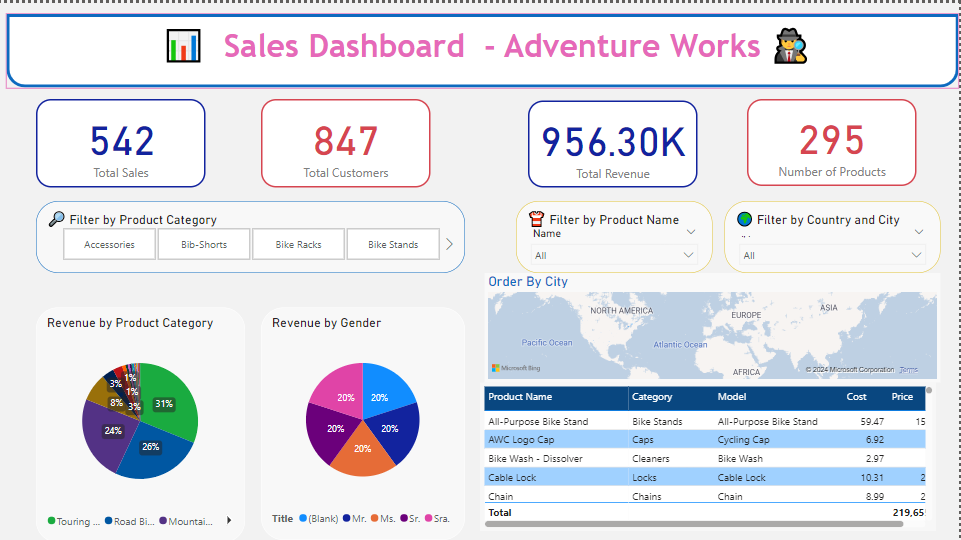

The page's visual inventory and layout, read from the dashboard file:
{"tool":"powerbi","page":{"name":"Page 1","canvas":[1280,720],"ordinal":0},"visuals":[{"type":"card","fields":{"Values":["CountNonNull(SalesOrderDetail.Sales_Order_ID)"]},"box":[48,128,226,118],"z":0},{"type":"card","fields":{"Values":["CountNonNull(Customer.Customer_ID)"]},"box":[348,128,226,118],"z":1000},{"type":"card","fields":{"Values":["Sum(SalesOrderHeader.Total_Due)"]},"box":[704,130,226,116],"z":2000},{"type":"card","fields":{"Values":["CountNonNull(Product.Product_ID)"]},"box":[996,128,226,116],"z":3000},{"type":"slicer","title":"🔎 Filter by Product Category","fields":{"Values":["ProductCategory.Name"]},"box":[48,264,572,96],"z":4000},{"type":"shape","box":[8.3,13.3,1271.7,100],"z":5000},{"type":"textbox","box":[212,20,982,86],"z":6000},{"type":"slicer","title":"👕 Filter by Product Name","fields":{"Values":["ProductCategory.Name"]},"box":[688,264,262,96],"z":7000},{"type":"slicer","title":"🌍 Filter by Country and City","fields":{"Values":["address.Country_Region","address.City"]},"box":[966,264,288,96],"z":8000},{"type":"pieChart","title":"Revenue by Product Category","fields":{"Category":["ProductCategory.Name"],"Y":["Sum(SalesOrderDetail.Line_Total)"]},"box":[48.3,406.7,278.3,313.3],"z":9000},{"type":"pieChart","title":"Revenue by Gender","fields":{"Category":["Customer.Title"],"Y":["Sum(SalesOrderDetail.Line_Total)"]},"box":[348,406,272,310],"z":10000},{"type":"filledMap","fields":{"Category":["address.City"]},"box":[646,360,608,146],"z":11000},{"type":"tableEx","fields":{"Values":["Product.Name","ProductCategory.Name","ProductModel.Name","Product.Standard_Cost","Sum(Product.List_Price)"]},"box":[640,506,608,198],"z":12000},{"type":"actionButton","box":[0,0,100,40],"z":13000}]}

Visuals, with their boxes in screenshot pixels (x1, y1, x2, y2), scaled from the page's 1280x720 canvas onto the 961x540 screenshot:
card - CountNonNull(SalesOrderDetail.Sales_Order_ID): bbox=(36, 96, 206, 184)
card - CountNonNull(Customer.Customer_ID): bbox=(261, 96, 431, 184)
card - Sum(SalesOrderHeader.Total_Due): bbox=(529, 98, 698, 184)
card - CountNonNull(Product.Product_ID): bbox=(748, 96, 917, 183)
"🔎 Filter by Product Category" slicer: bbox=(36, 198, 465, 270)
shape: bbox=(6, 10, 960, 85)
textbox: bbox=(159, 15, 896, 80)
"👕 Filter by Product Name" slicer: bbox=(517, 198, 713, 270)
"🌍 Filter by Country and City" slicer: bbox=(725, 198, 941, 270)
"Revenue by Product Category" pieChart: bbox=(36, 305, 245, 539)
"Revenue by Gender" pieChart: bbox=(261, 304, 465, 537)
filledMap - address.City: bbox=(485, 270, 941, 380)
tableEx - Product.Name x ProductCategory.Name: bbox=(480, 380, 937, 528)
actionButton: bbox=(0, 0, 75, 30)
